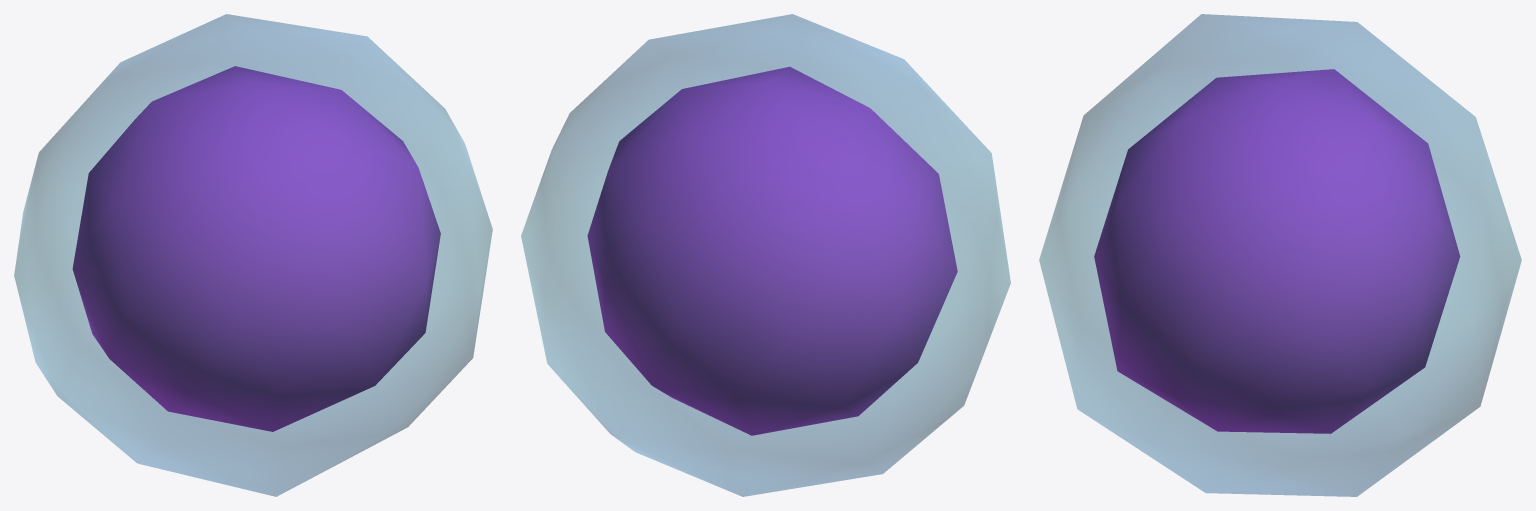
3 renders of one model, left to right at view 1: azimuth 30°, elevation 25°; view 2: azimuth 150°, elevation 25°; view 3: azimuth 270°, elevation 25°, orthographic. The views are drawn at different scales.
Visible parts, largest first — view 1: OvuloMembrana; view 2: OvuloMembrana; view 3: OvuloMembrana.
Part boxes in pixels (left/top/right/bottom): OvuloMembrana: left=14, top=14, right=492, bottom=496; OvuloMembrana: left=521, top=14, right=1010, bottom=496; OvuloMembrana: left=1039, top=14, right=1521, bottom=496.
Bounding box in the file's own units: 0.1967 × 0.2023 × 0.1955.
Materials: 2 (1 with a texture image).
